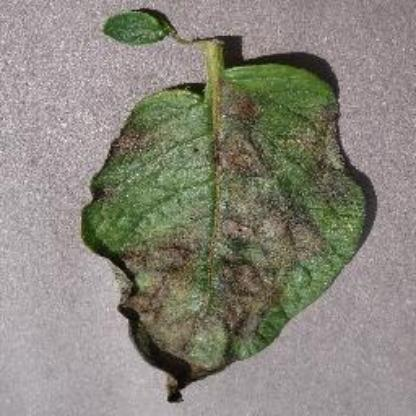Late-Blight: (64, 56, 388, 382)
